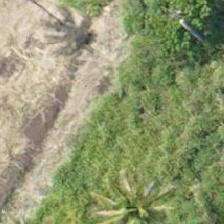coconut_tree: (94, 165, 184, 223)
